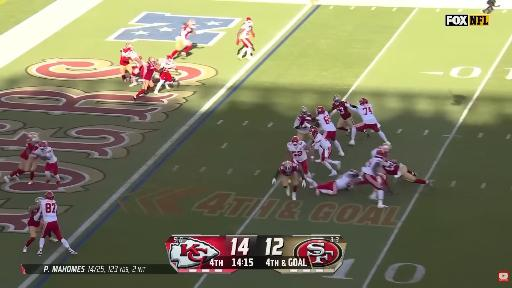Helmet: (338, 170, 359, 178), (282, 161, 292, 171), (28, 132, 39, 141), (376, 149, 387, 158), (379, 144, 391, 152), (164, 56, 174, 65), (38, 142, 48, 151), (128, 51, 140, 58), (310, 127, 318, 137), (316, 106, 325, 114), (291, 136, 299, 145), (359, 98, 368, 105), (165, 59, 174, 66), (45, 192, 54, 199), (148, 57, 157, 64), (334, 95, 341, 103), (125, 42, 133, 49), (187, 19, 195, 26), (349, 170, 358, 176), (245, 18, 252, 25), (35, 197, 43, 203), (301, 107, 307, 115), (340, 101, 348, 105), (167, 55, 172, 59)
Jersey: (348, 104, 377, 123), (34, 199, 57, 222), (287, 141, 306, 162), (362, 158, 385, 175), (316, 112, 336, 131), (34, 147, 57, 163), (336, 172, 357, 189), (294, 114, 312, 133), (332, 102, 351, 119), (20, 141, 37, 159), (313, 134, 331, 151), (142, 62, 156, 79), (280, 163, 298, 176), (383, 161, 399, 175), (120, 48, 132, 65), (160, 59, 175, 72), (180, 26, 193, 39), (240, 24, 252, 38), (133, 56, 145, 66), (371, 148, 379, 157)
Player: (34, 192, 77, 255), (347, 98, 389, 145), (4, 132, 39, 182), (359, 150, 387, 207), (310, 127, 340, 175), (316, 106, 344, 156), (272, 161, 306, 200), (307, 170, 360, 195), (384, 160, 433, 186), (132, 57, 159, 101), (33, 142, 60, 185), (23, 197, 43, 252), (287, 136, 311, 178), (329, 95, 354, 134), (171, 20, 195, 58), (155, 56, 177, 94), (236, 18, 255, 59), (294, 107, 313, 140), (130, 52, 145, 86), (120, 43, 132, 82), (371, 144, 391, 157), (483, 0, 499, 13)
